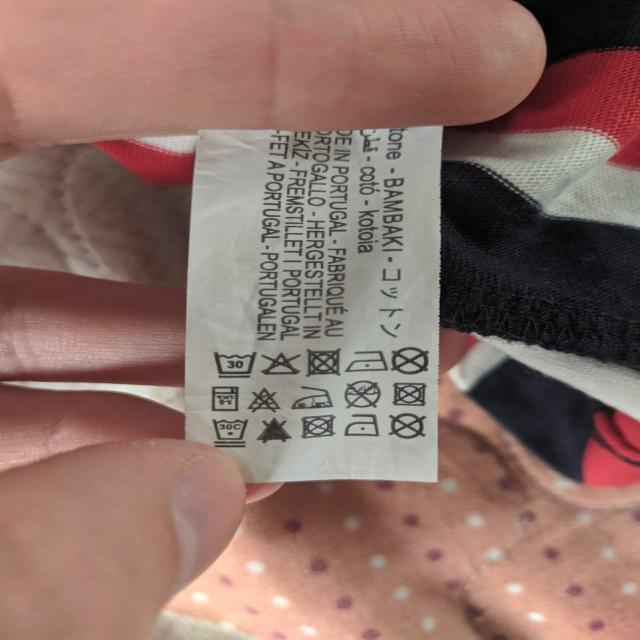30C: (213, 346, 258, 379), (209, 415, 248, 448), (211, 383, 242, 414)
DN_bleach: (261, 349, 301, 377), (246, 385, 283, 414), (256, 418, 292, 445)
DN_dry_clean: (385, 410, 428, 442), (390, 344, 430, 375), (341, 379, 383, 407)
DN_tumble_dry: (305, 348, 342, 379), (301, 411, 338, 440), (391, 379, 428, 407)
iron_low: (292, 384, 336, 411), (344, 411, 381, 440), (348, 347, 387, 374)
